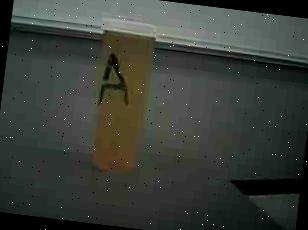Bottle A: (71, 5, 171, 194)
